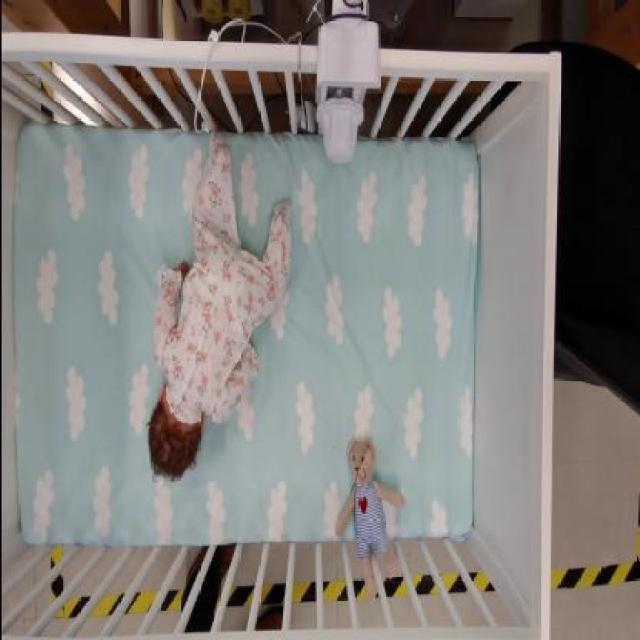baby: (146, 128, 297, 482)
